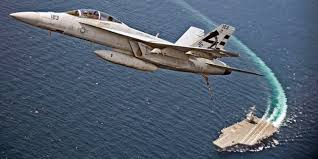fighter: (9, 3, 271, 83)
